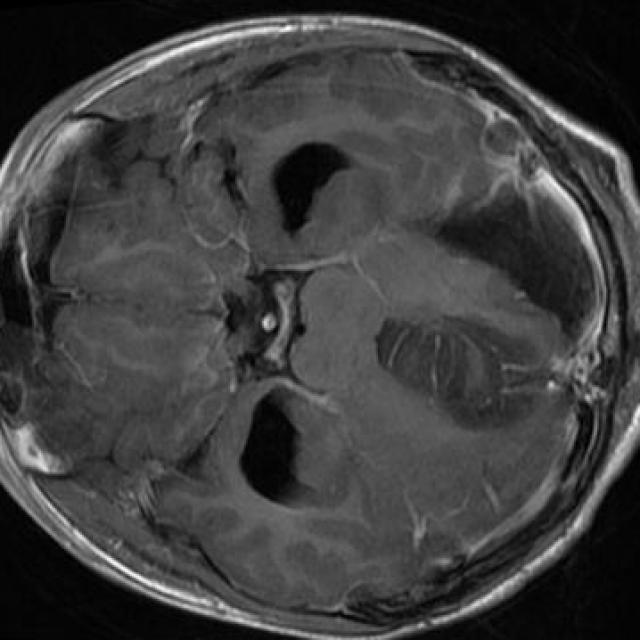glioma: (374, 312, 551, 430)
